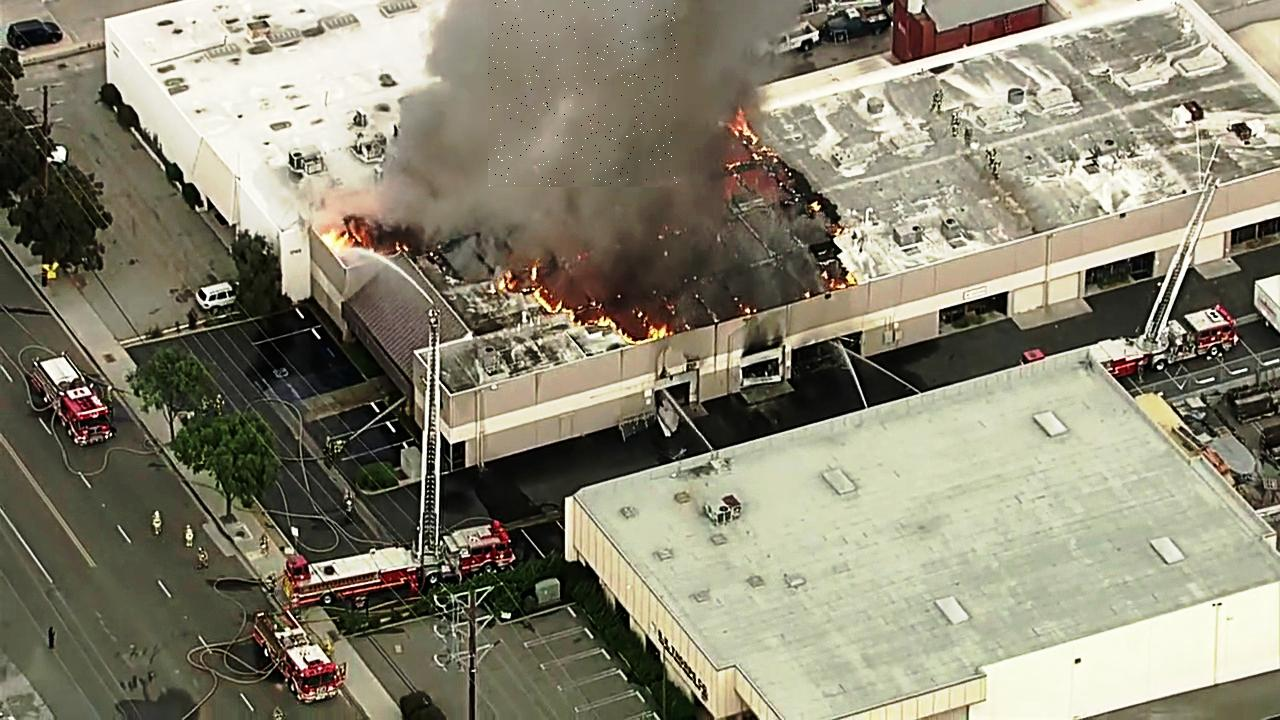smoke: (489, 0, 679, 187)
